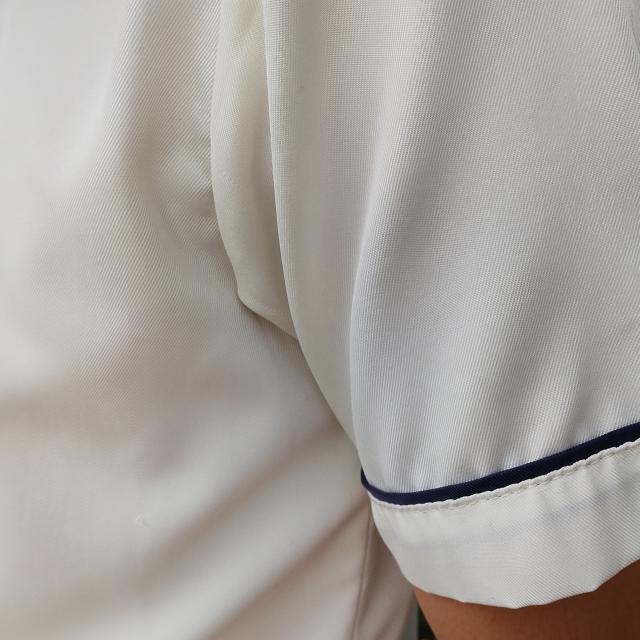education_male_uniform: (123, 10, 640, 626)
